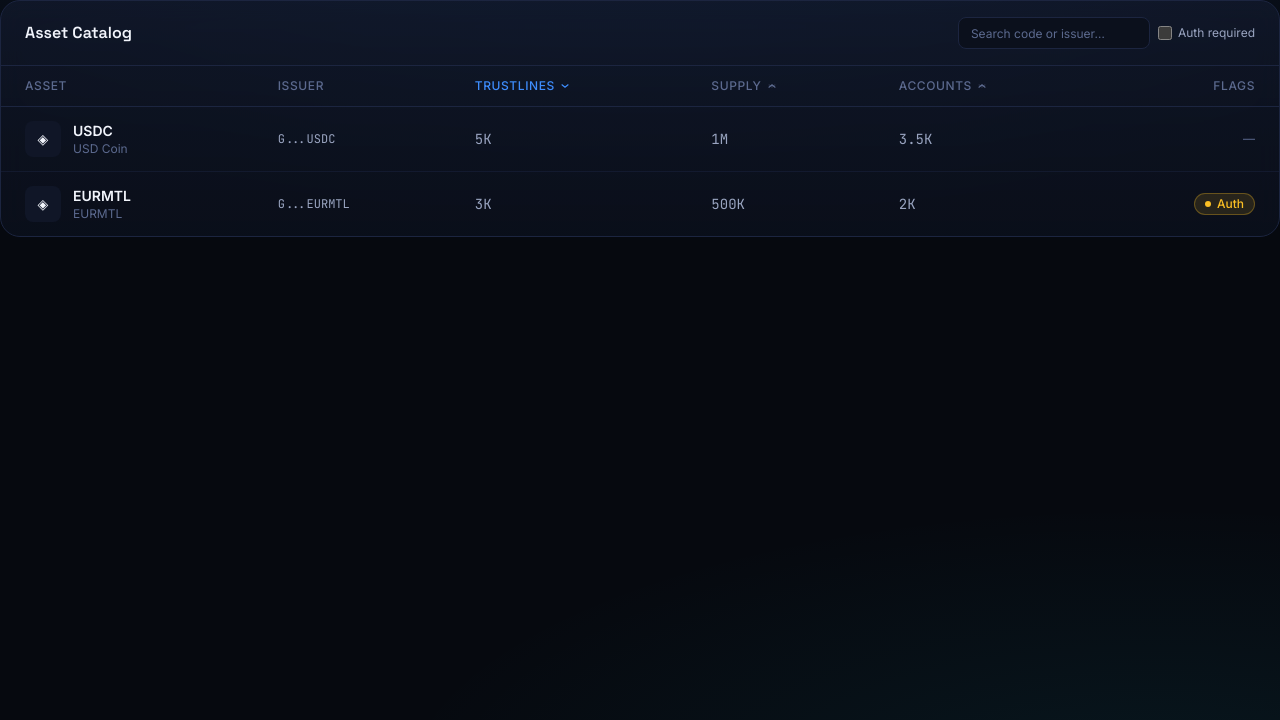
Test: AssetBrowser › filters assets case-insensitively by code
In the field named "Search assets": (1054, 33) [958, 17, 1150, 49], type "usdc"
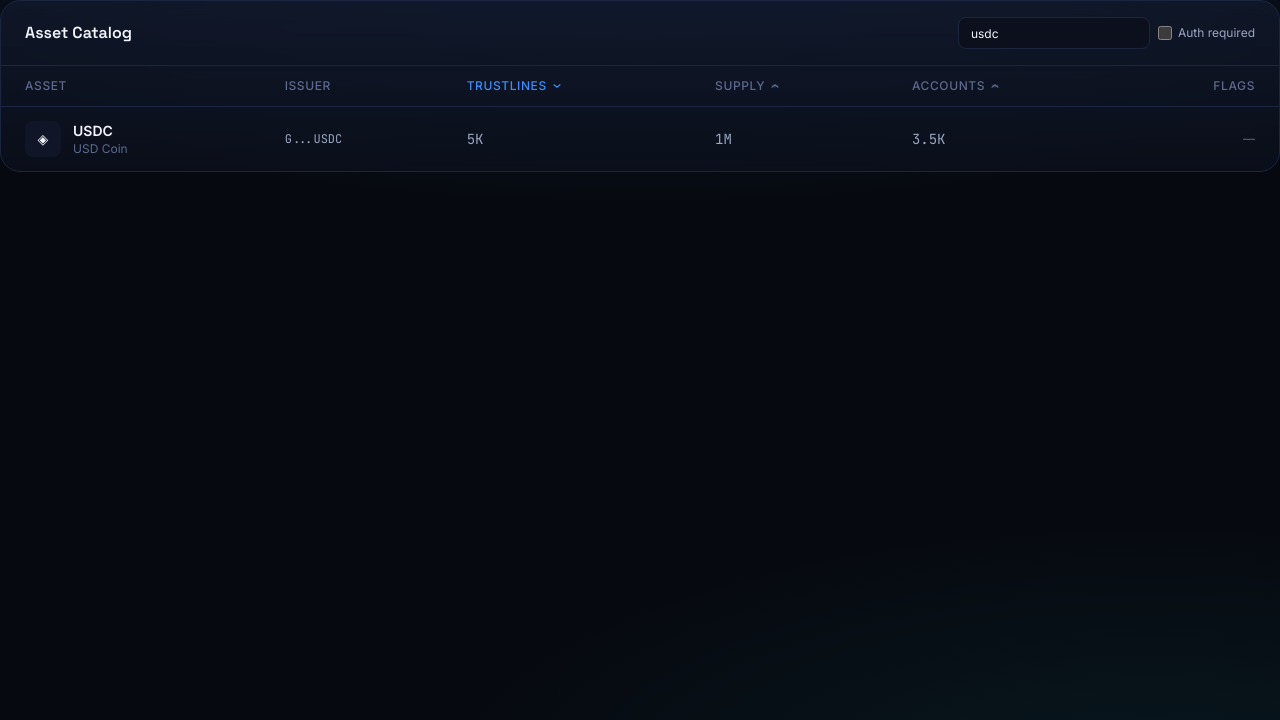
Check: the text "USDC" is shown, box [73, 122, 113, 139]
Check: the text "EURMTL" is gone
